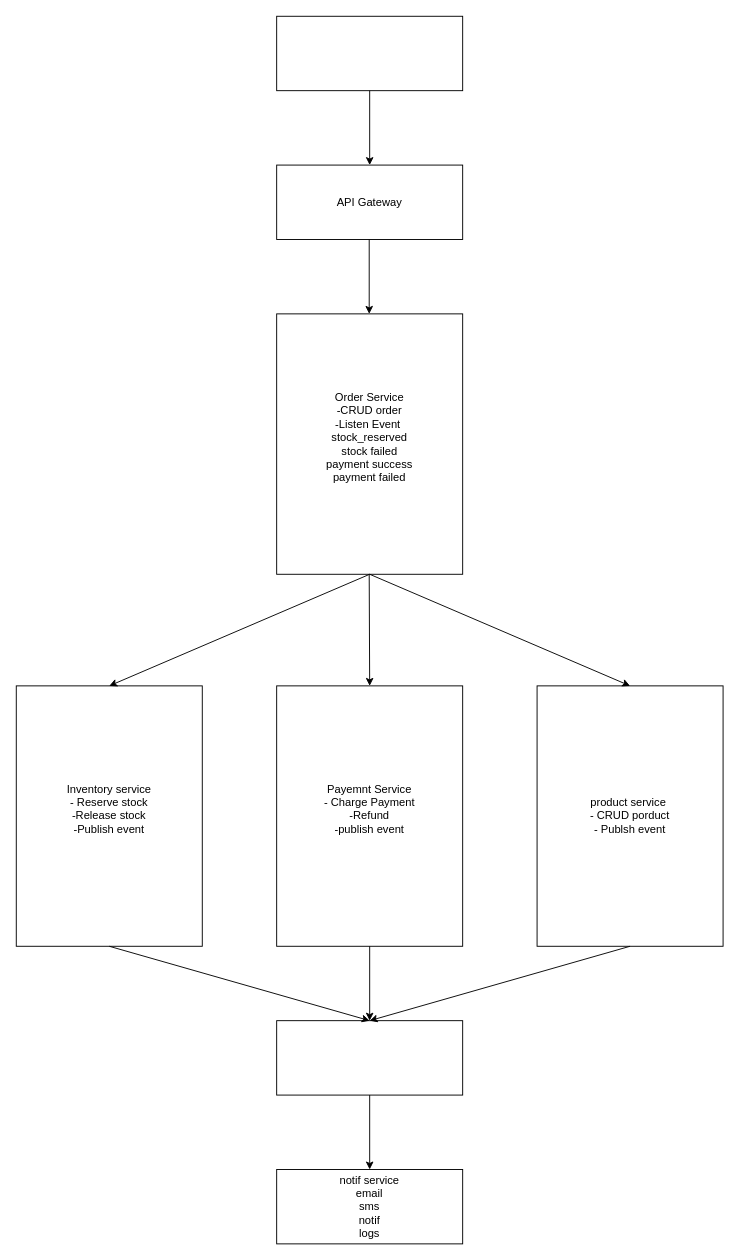
The diagram is 739 pixels wide and 1260 high, and some of its shapes have lost their labels. Each missing label, with the centre of its shape:
"client/user" belongs at pixel 369 53.
"Event Bus, (queue/ kafka/rabbit/pubsub )" belongs at pixel 369 1057.
